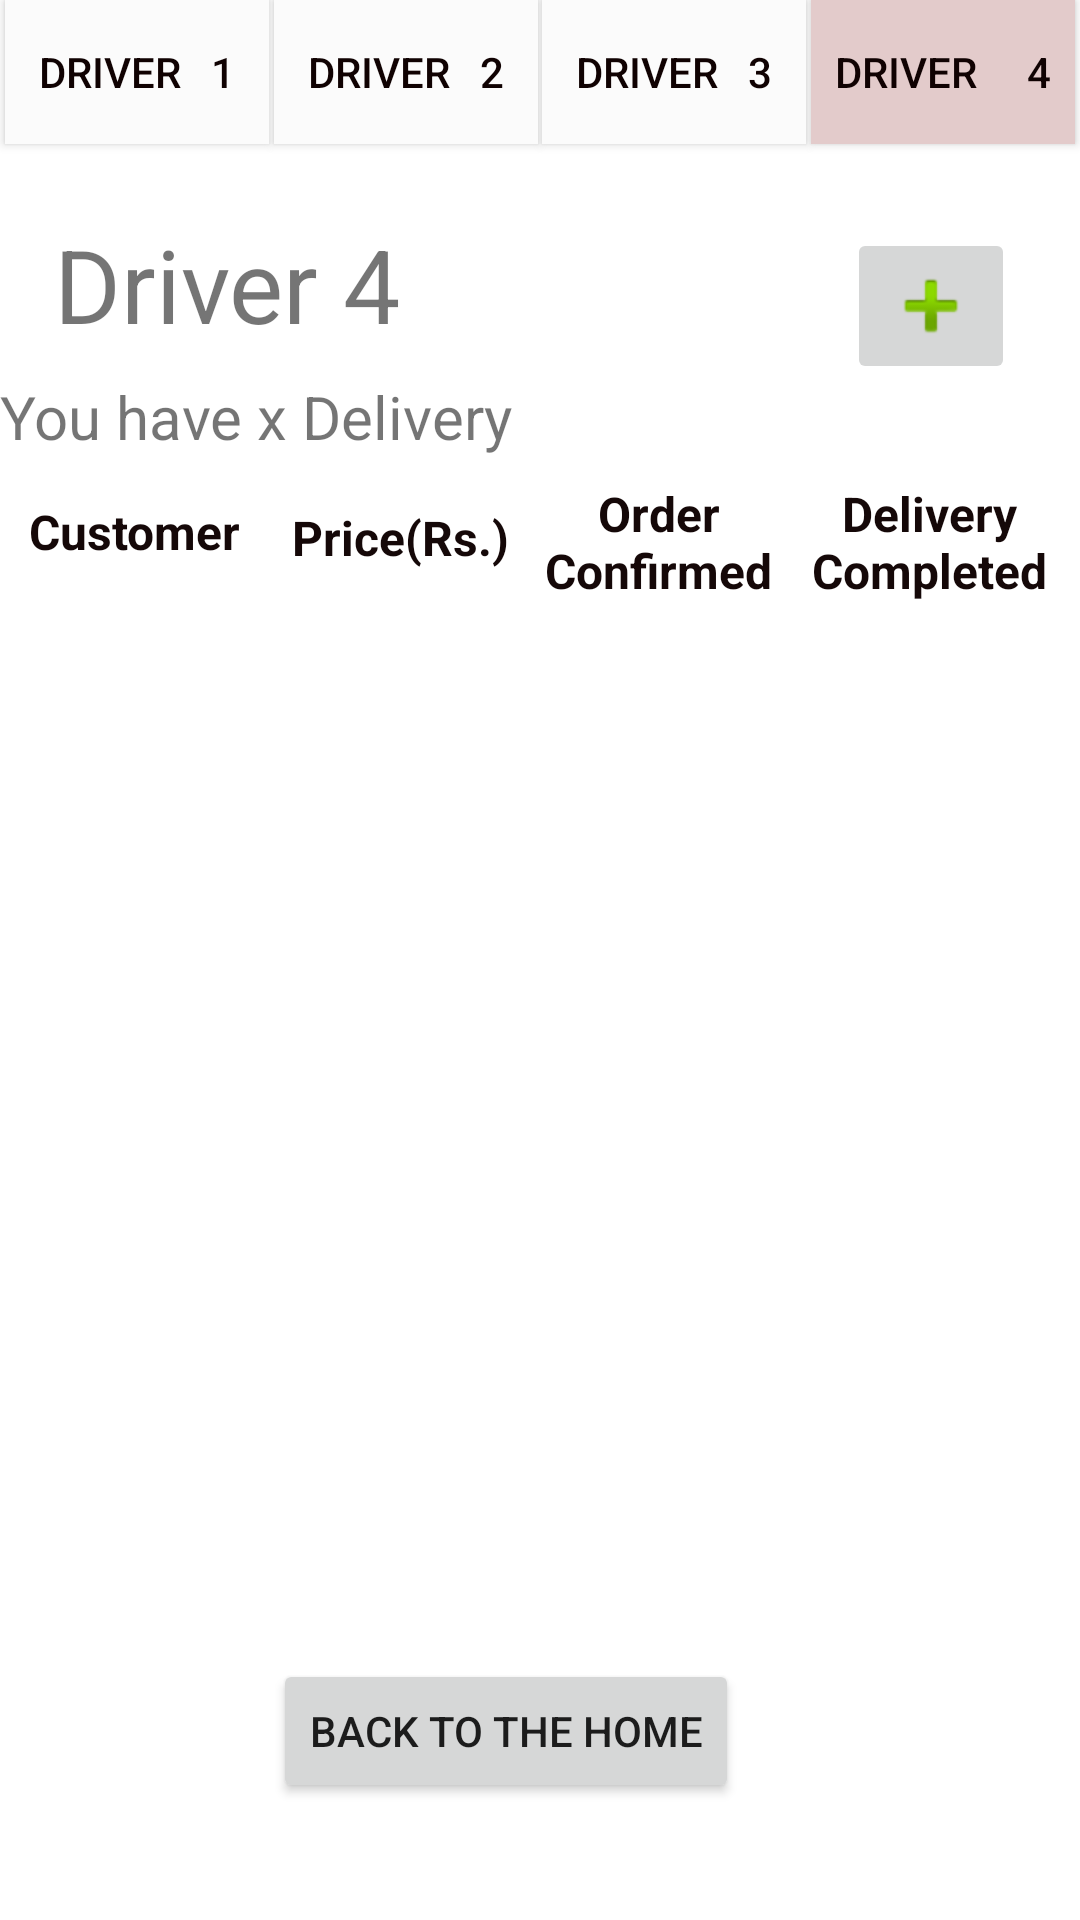

Locate icon controls on the screen. Image size 1080 × 1920, boxes as (x1, y1, x2, y2).
add: (859, 246, 1003, 366)
